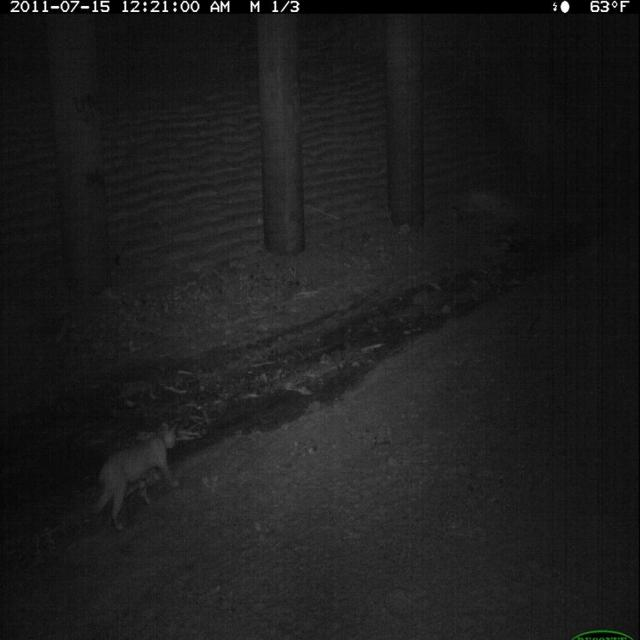bobcat: (89, 416, 185, 538)
